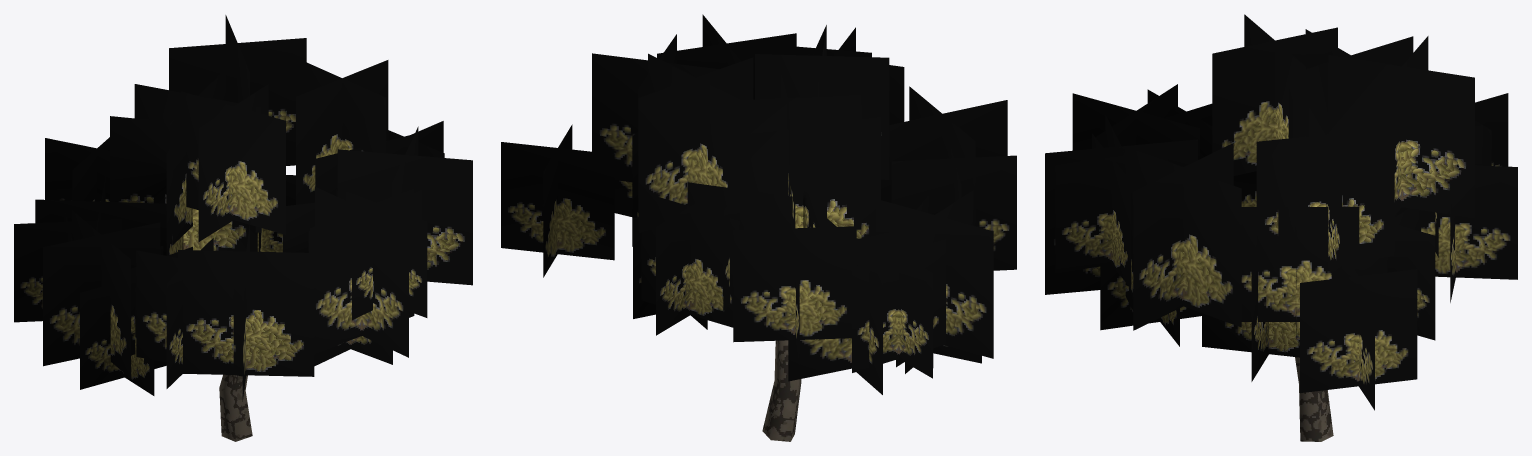
The model's file is oak1_dry_lod1.fbx.
The picture shows the model from 3 angles, left to right: view 1: azimuth 30°, elevation 25°; view 2: azimuth 150°, elevation 25°; view 3: azimuth 270°, elevation 25°; orthographic projection. The views are drawn at different scales.
Visible parts, largest first — view 1: oak1_dry_lod1; view 2: oak1_dry_lod1; view 3: oak1_dry_lod1.
Part boxes in pixels (<box>): oak1_dry_lod1: <box>14,15,472,441</box>; oak1_dry_lod1: <box>501,14,1016,441</box>; oak1_dry_lod1: <box>1045,14,1517,441</box>.
Bounding box in the file's own units: 12.79 × 10.06 × 10.94.
Materials: 2 (2 with a texture image).
